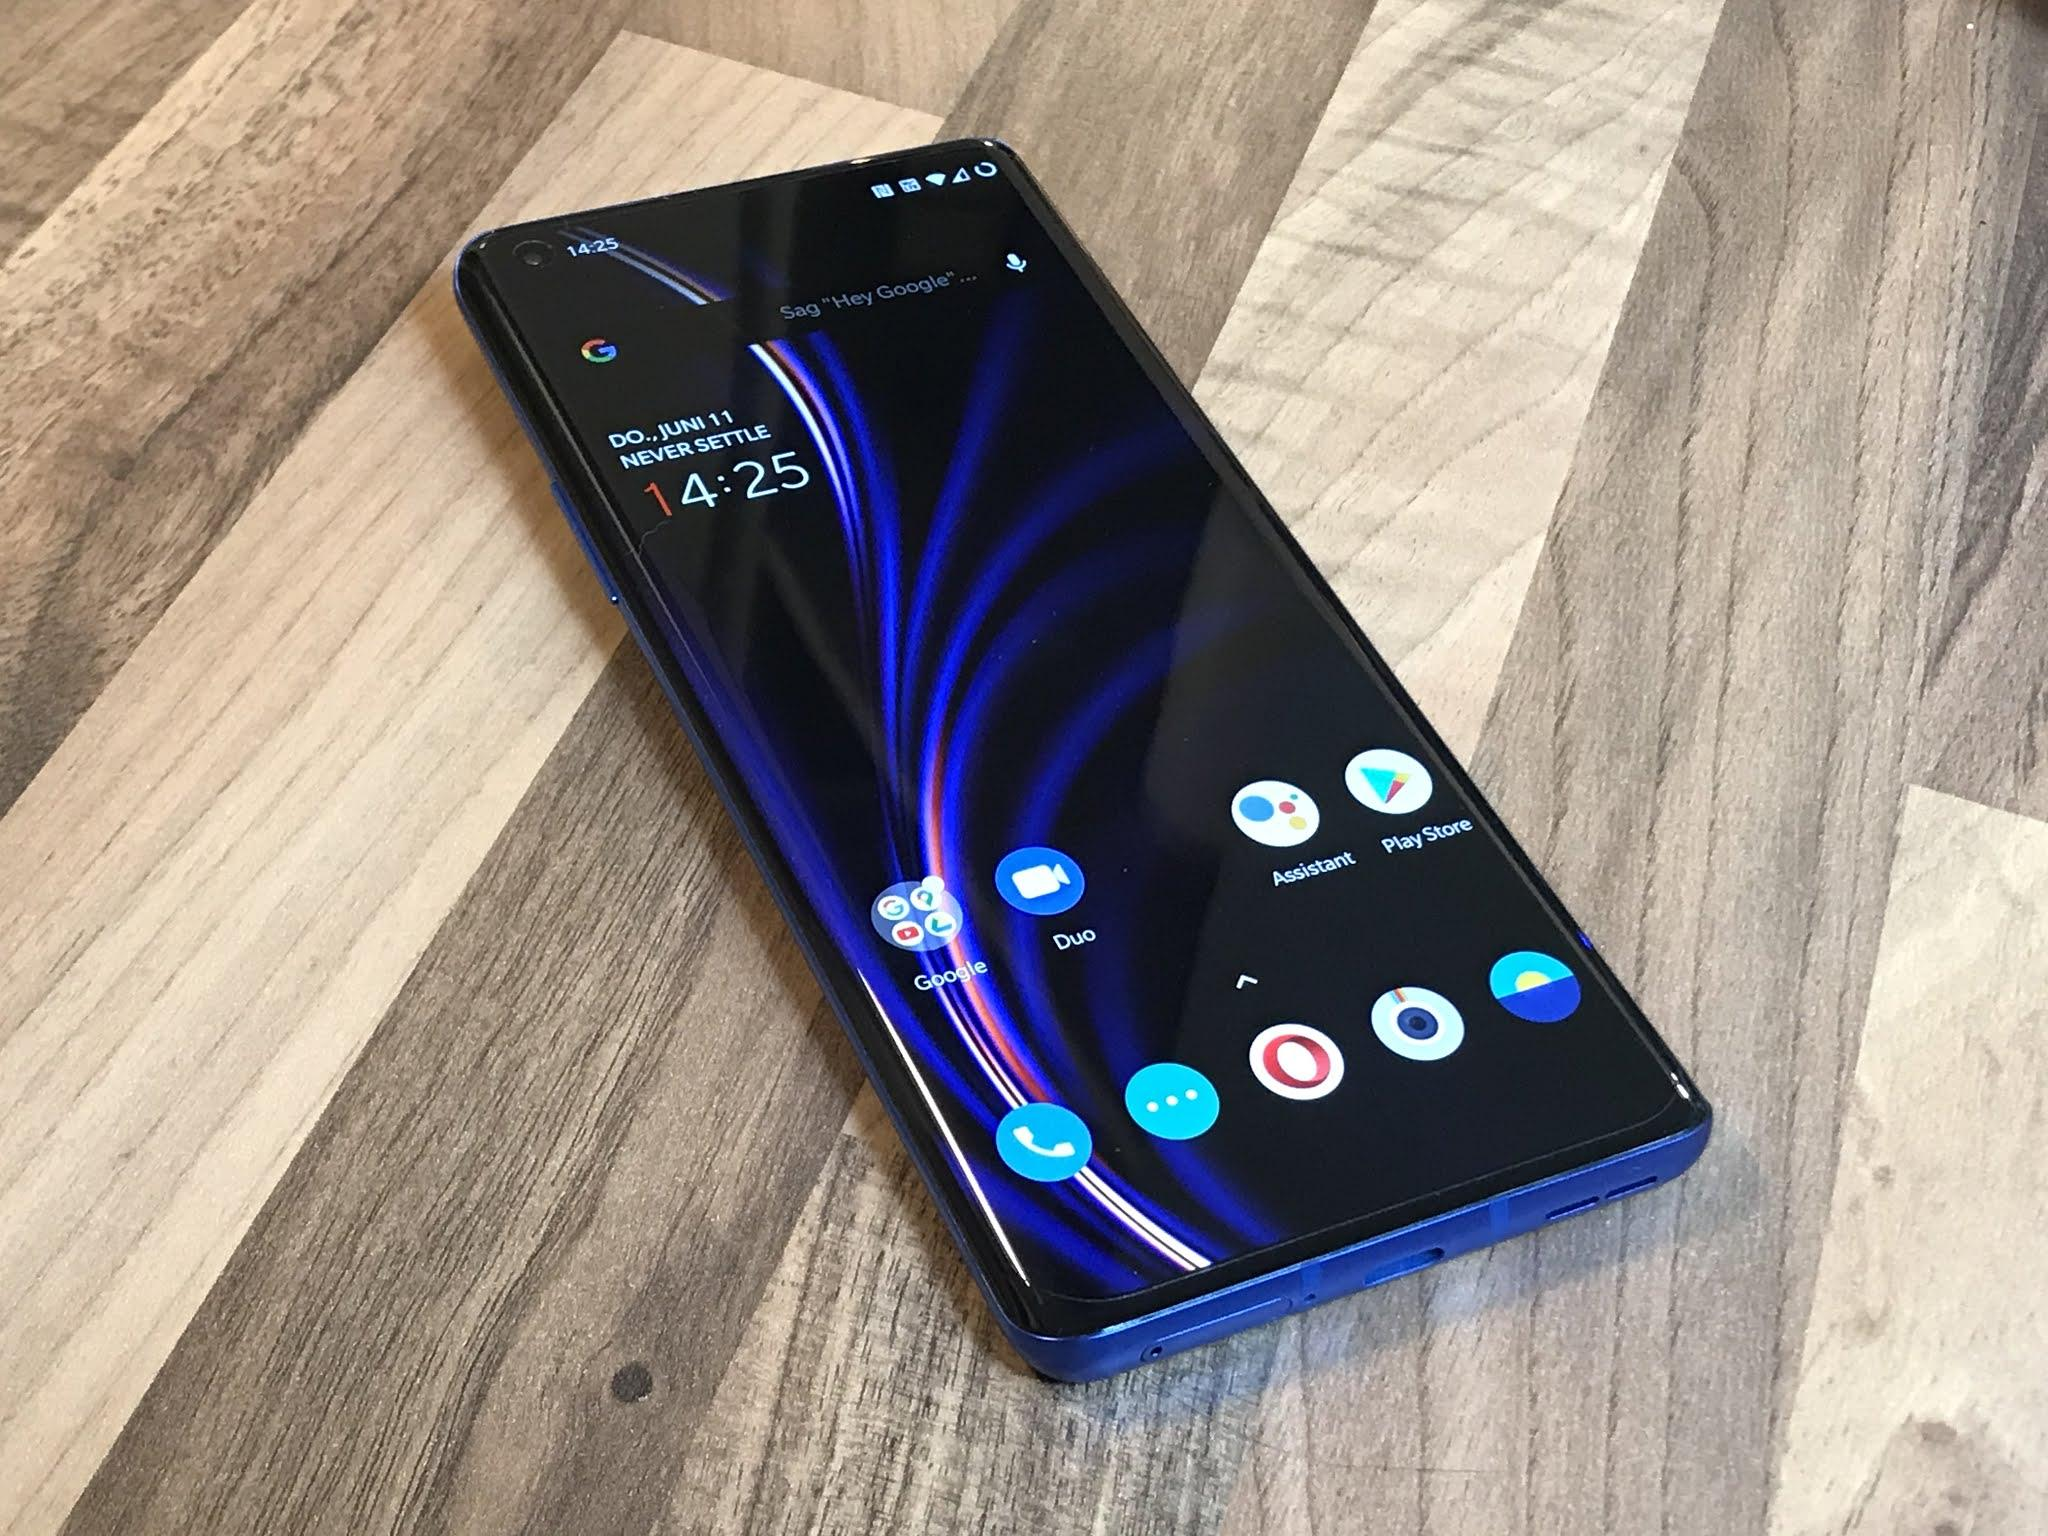Smart Phone: (445, 142, 1717, 1392)
